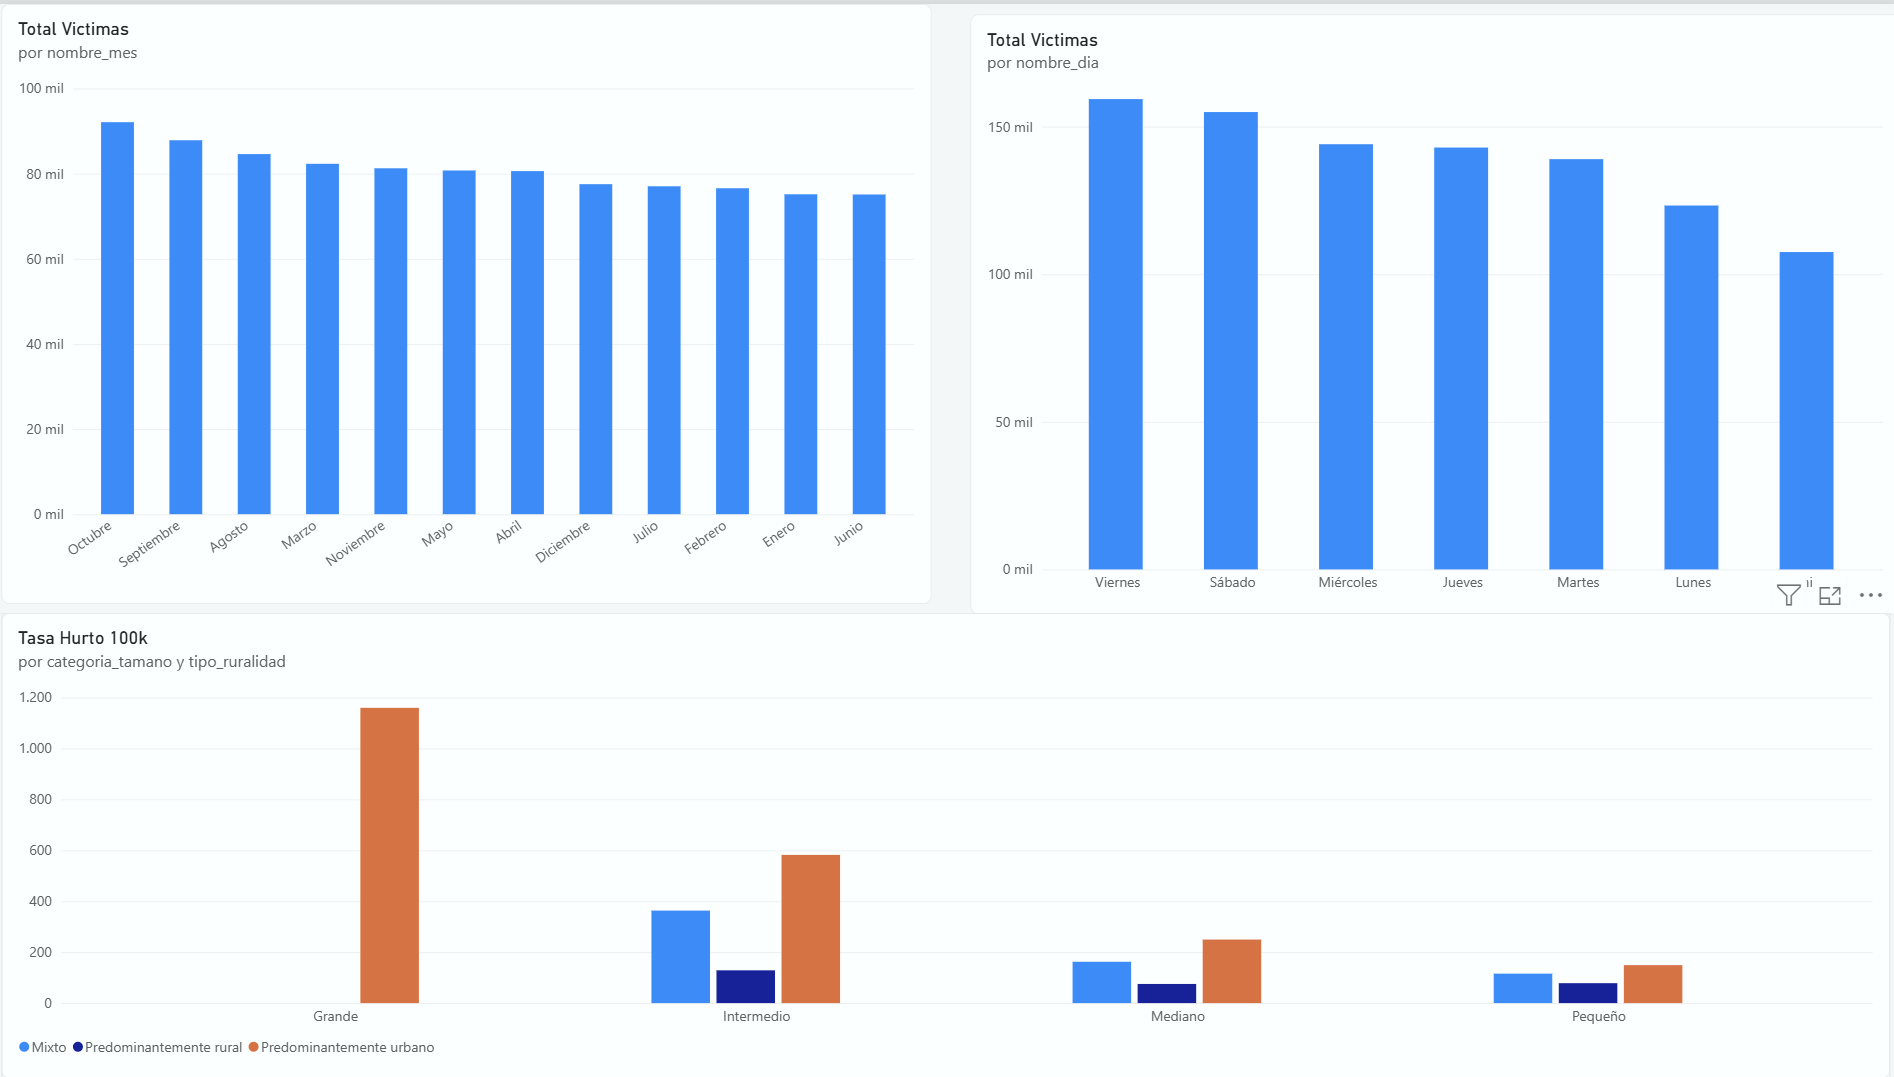

Layout of this report page (visuals, bound fields, positions):
{"tool":"powerbi","page":{"name":"Página 2","canvas":[1920,1080],"ordinal":1},"visuals":[{"type":"clusteredColumnChart","fields":{"Category":["dw dim_tiempo.nombre_mes"],"Y":["dw fact_hurto_personas.Total Victimas"]},"box":[10.6,0,935.4,603.5],"z":0},{"type":"clusteredColumnChart","fields":{"Category":["dw dim_tiempo.nombre_dia"],"Y":["dw fact_hurto_personas.Total Victimas"]},"box":[985.2,10.6,935.4,603.5],"z":1},{"type":"clusteredColumnChart","fields":{"Category":["dw dim_perfil_poblacional.categoria_tamano"],"Series":["dw dim_perfil_poblacional.tipo_ruralidad"],"Y":["dw fact_hurto_personas.Tasa Hurto 100k"]},"box":[10.6,612.5,1899.4,467.7],"z":2}]}

Visuals, with their boxes in screenshot pixels (x1, y1, x2, y2), scaled from the page's 1920x1080 canvas onto the 1894x1077 screenshot:
clusteredColumnChart - dw dim_tiempo.nombre_mes x dw fact_hurto_personas.Total Victimas: 10,0,933,602
clusteredColumnChart - dw dim_tiempo.nombre_dia x dw fact_hurto_personas.Total Victimas: 972,11,1893,612
clusteredColumnChart - dw dim_perfil_poblacional.categoria_tamano x dw dim_perfil_poblacional.tipo_ruralidad: 10,611,1884,1076
